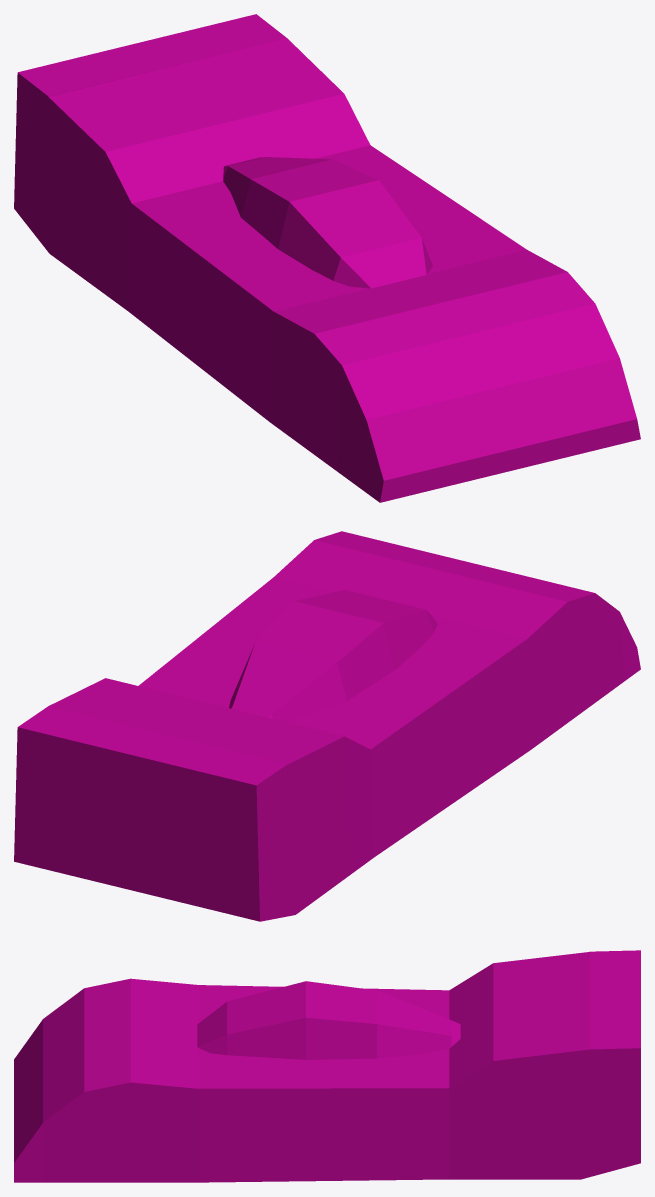
File: SM_Veh_Prototype_01_Preset_02_Collision.fbx
3 renders of one model, top to bottom at view 1: azimuth 30°, elevation 25°; view 2: azimuth 150°, elevation 25°; view 3: azimuth 270°, elevation 25°, orthographic. The views are drawn at different scales.
Visible parts, largest first — view 1: SM_Veh_Prototype_01_Preset_02_Collision; view 2: SM_Veh_Prototype_01_Preset_02_Collision; view 3: SM_Veh_Prototype_01_Preset_02_Collision.
Part boxes in pixels (x1,y1,x2,y2): SM_Veh_Prototype_01_Preset_02_Collision: [14, 14, 640, 502]; SM_Veh_Prototype_01_Preset_02_Collision: [14, 531, 640, 921]; SM_Veh_Prototype_01_Preset_02_Collision: [14, 950, 640, 1182].
Size of the model in its own units: 263 by 149 by 652.
